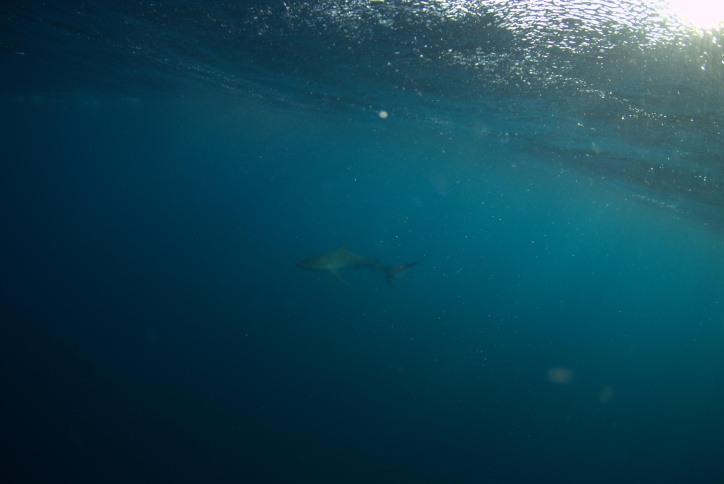Sedoso: (283, 230, 427, 302)
